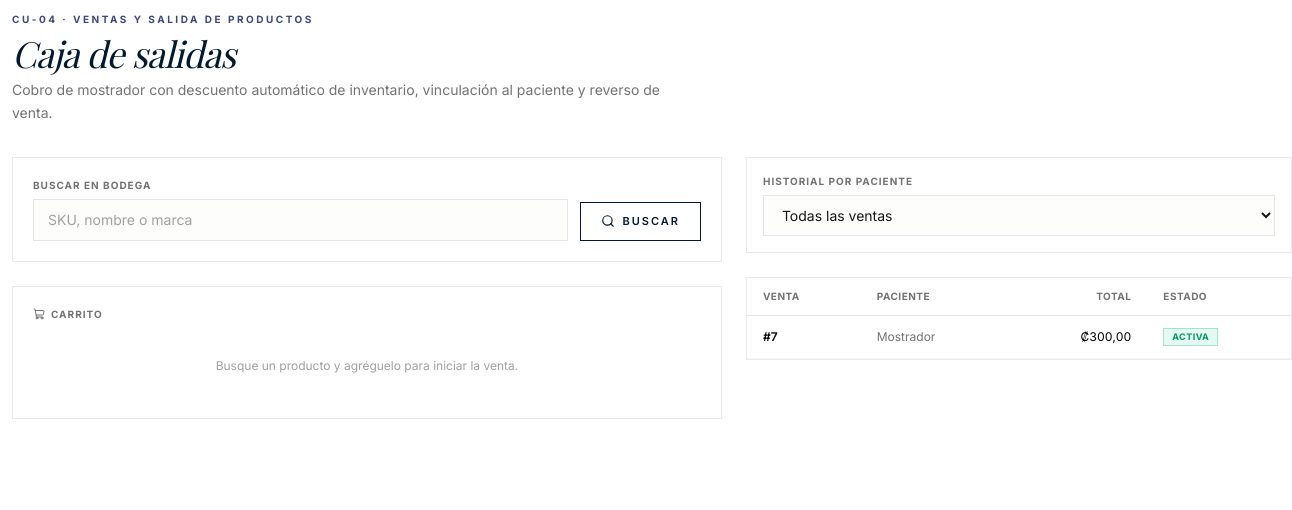
Test: VentasPage › busca en bodega y muestra el stock disponible
In the field labelled "Buscar en bodega": point(300, 220) [33, 198, 568, 240], type "ray"
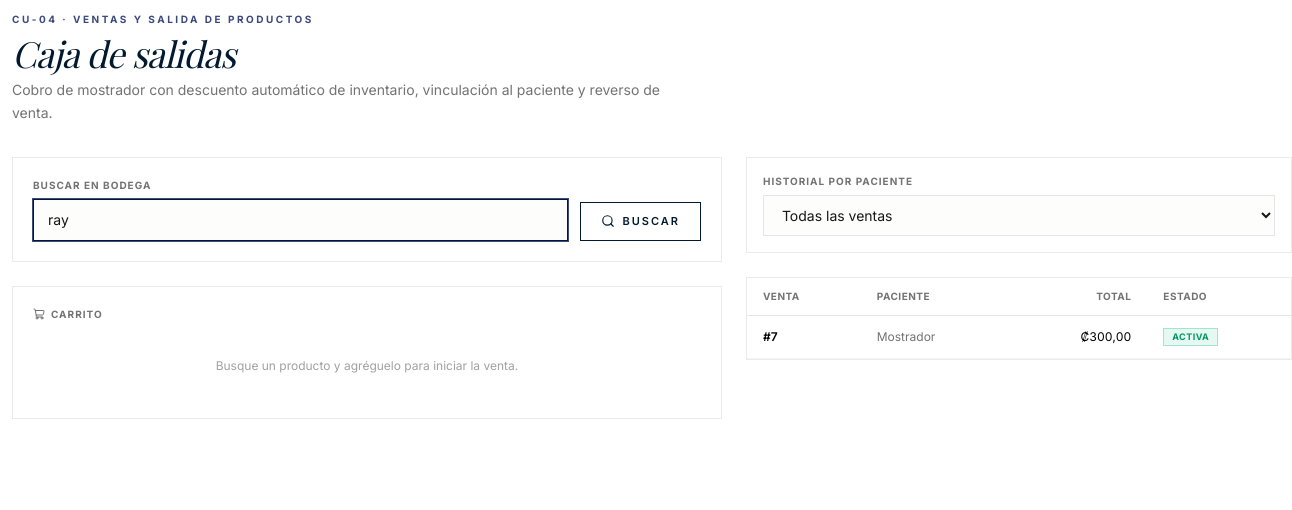
Click the button "Buscar": point(640, 221) [580, 202, 701, 240]
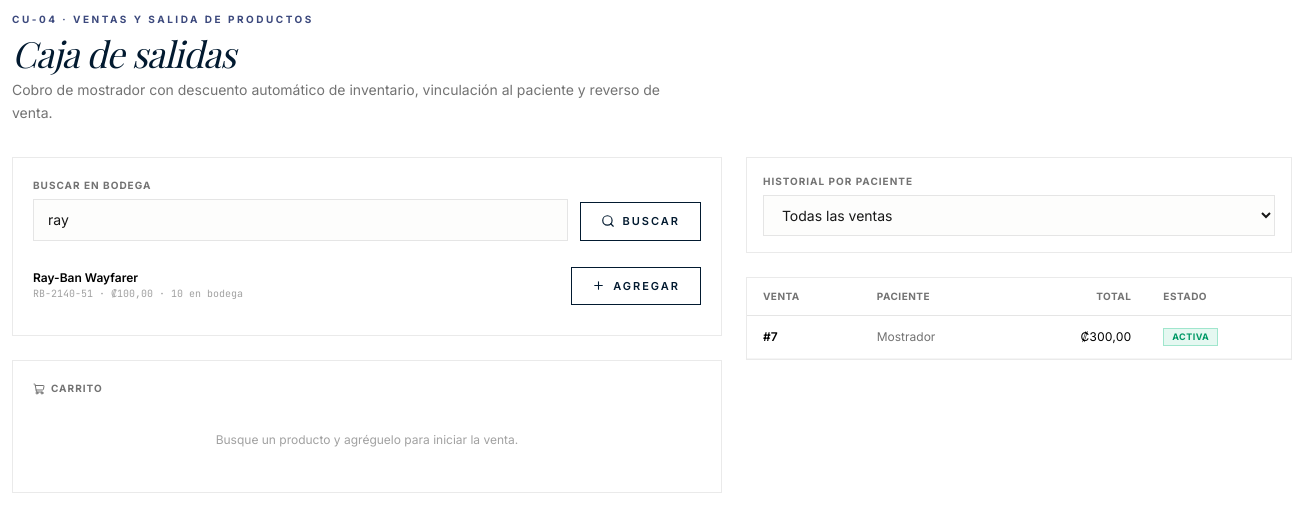
Check: the text "10 en bodega" is shown, box [171, 287, 243, 300]
